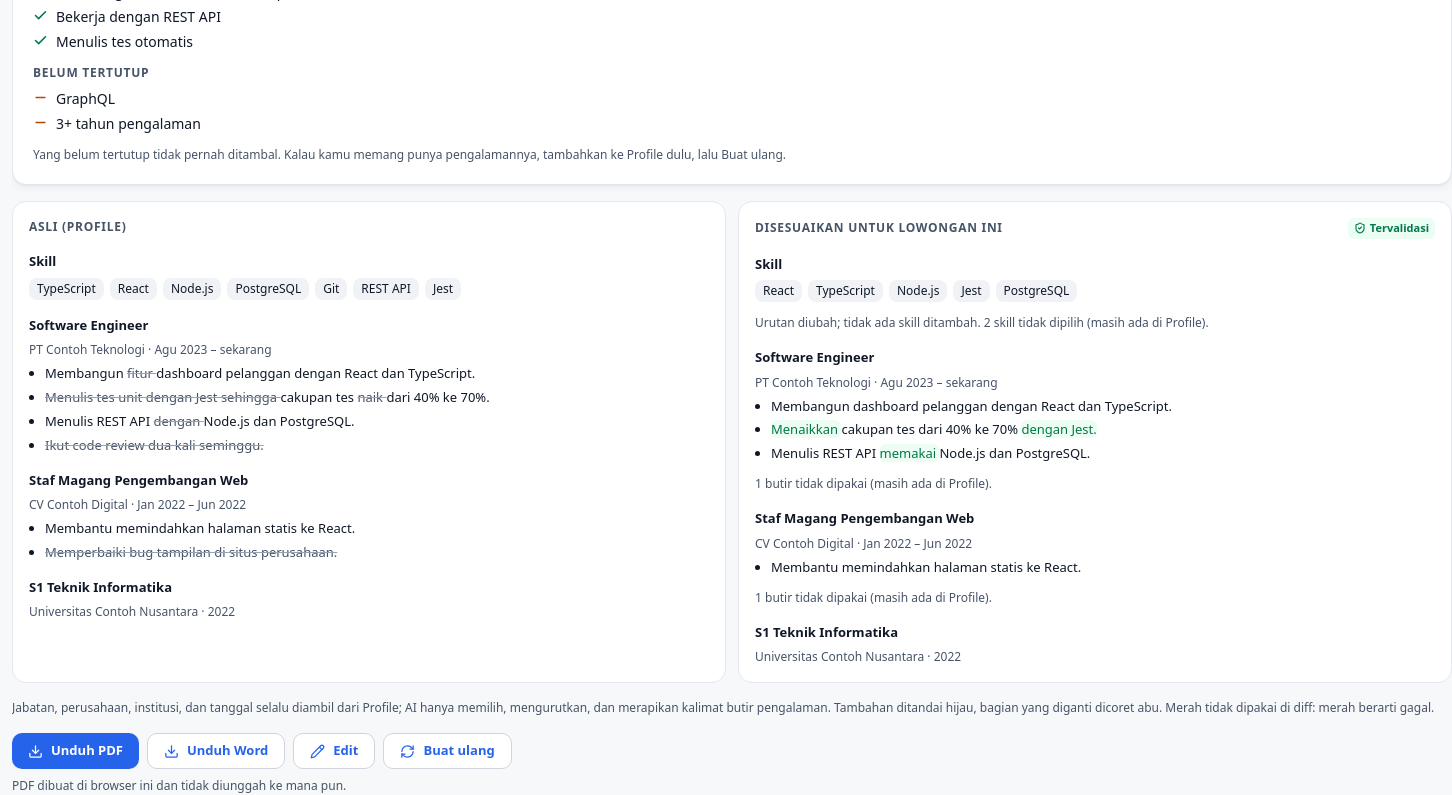
CvTab: editing by hand (FR-41) › goes back to the preview with Selesai
(page scrolled)
Click the button "Edit": (334, 751) [293, 733, 375, 769]
(page scrolled)
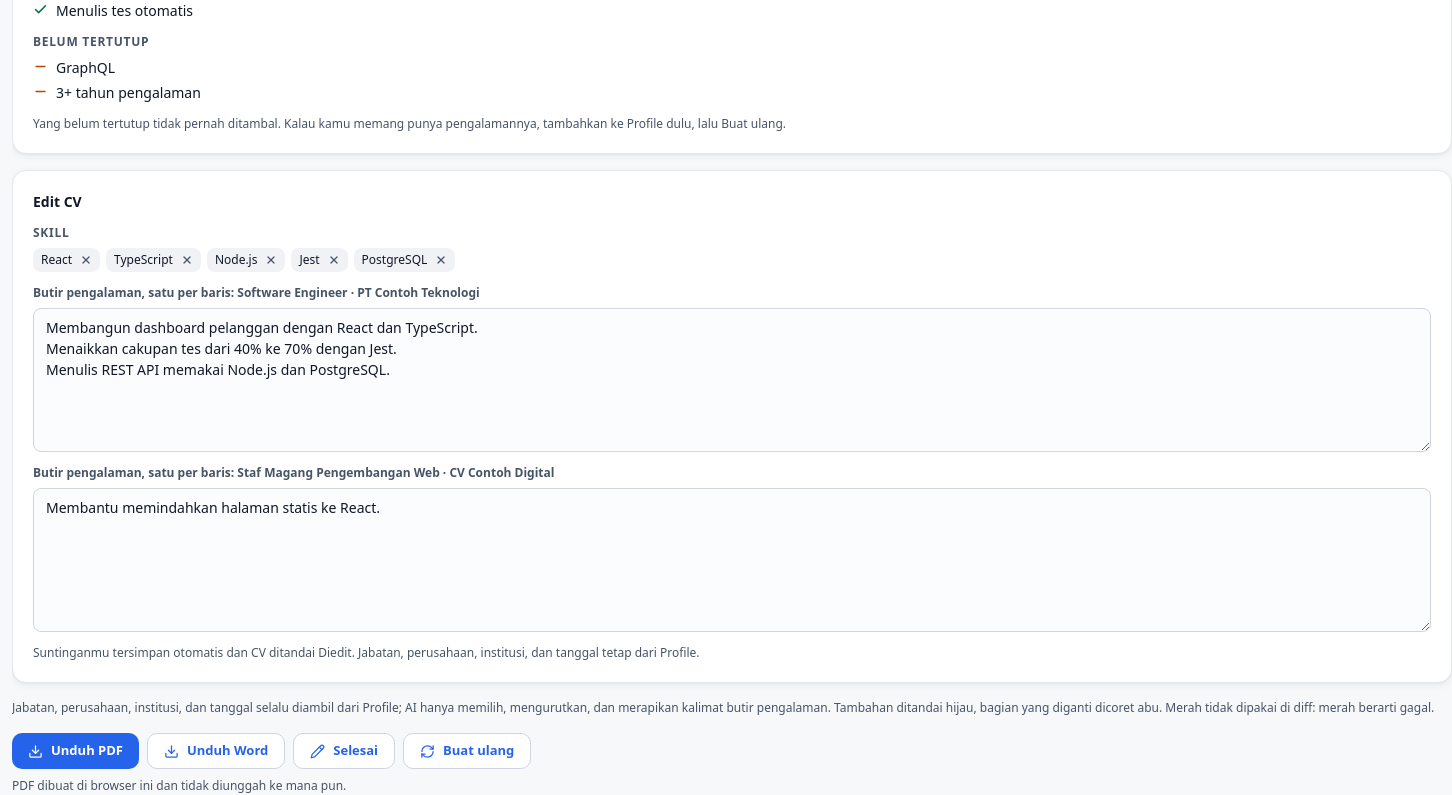
Click the button "Selesai": (344, 751) [293, 733, 395, 769]
(page scrolled)
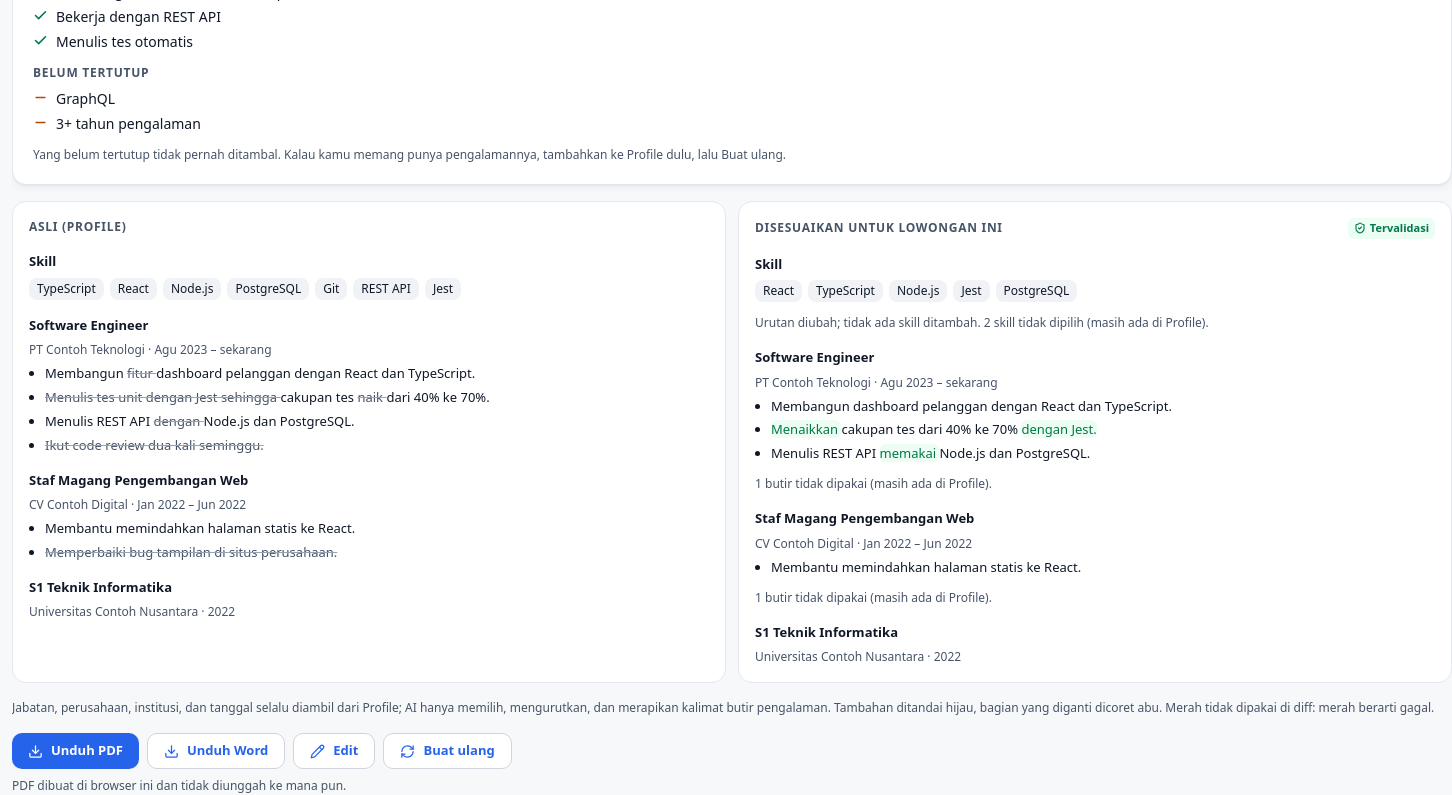
Expected: the button "Edit" is shown, [293, 733, 375, 769]
Result: no text boxes are shown
